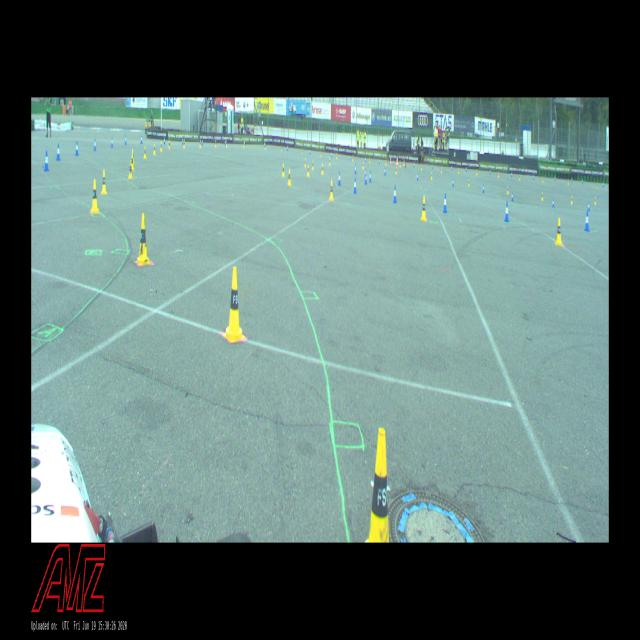blue_cone: (584, 210, 590, 232), (44, 151, 50, 171), (504, 202, 509, 222), (443, 193, 447, 213), (393, 186, 397, 203), (56, 144, 60, 161), (353, 178, 357, 194), (75, 141, 79, 156), (338, 171, 341, 186), (369, 172, 372, 182), (94, 139, 96, 151), (163, 137, 166, 145), (111, 137, 113, 148), (354, 164, 356, 175), (365, 173, 367, 184), (125, 135, 127, 145), (364, 168, 366, 178), (588, 202, 590, 211), (416, 172, 418, 181), (140, 136, 142, 144), (552, 199, 554, 207), (482, 185, 484, 193), (512, 193, 514, 201), (182, 137, 184, 145), (452, 179, 454, 186), (202, 138, 204, 145), (349, 154, 351, 161), (309, 148, 311, 155), (602, 181, 604, 187), (554, 176, 556, 182), (393, 160, 395, 166), (378, 159, 380, 164), (385, 168, 386, 175), (225, 139, 226, 146), (490, 168, 491, 175), (466, 165, 467, 172), (365, 156, 366, 163), (287, 144, 288, 151), (582, 178, 583, 184), (571, 177, 572, 183), (451, 165, 452, 171), (331, 152, 332, 158), (533, 174, 534, 179), (511, 172, 512, 177), (432, 164, 432, 169), (414, 162, 414, 168)
large_orange_cone: (396, 157, 398, 167), (403, 160, 405, 168), (390, 157, 391, 166)
yellow_cone: (364, 428, 389, 542), (223, 267, 245, 342), (136, 214, 151, 265), (91, 180, 99, 213), (555, 218, 563, 246), (101, 170, 107, 194), (421, 196, 426, 221), (329, 180, 334, 200), (128, 159, 132, 180), (288, 169, 291, 186), (282, 164, 285, 178), (144, 146, 147, 159), (307, 165, 310, 177), (153, 144, 156, 155), (160, 141, 163, 152), (132, 154, 134, 170), (132, 149, 134, 164), (183, 140, 186, 149), (322, 163, 324, 174), (570, 195, 572, 204), (168, 140, 170, 149), (312, 161, 314, 170), (362, 161, 364, 170), (541, 192, 543, 200), (200, 140, 202, 148), (468, 179, 470, 187), (395, 166, 397, 174), (264, 142, 266, 150), (280, 144, 282, 152), (336, 152, 338, 160), (352, 154, 354, 162), (399, 160, 401, 168), (506, 187, 508, 194), (329, 158, 331, 165), (594, 197, 596, 204), (215, 140, 217, 147), (430, 172, 432, 179), (243, 141, 245, 148), (301, 148, 303, 155), (320, 151, 322, 158), (385, 159, 387, 166), (457, 168, 459, 175), (476, 169, 478, 176), (498, 171, 500, 178), (567, 179, 569, 185), (596, 183, 598, 189), (305, 159, 306, 167), (369, 156, 370, 164), (226, 140, 227, 147), (421, 164, 422, 171), (441, 166, 442, 173), (519, 173, 520, 180), (542, 176, 543, 183)
